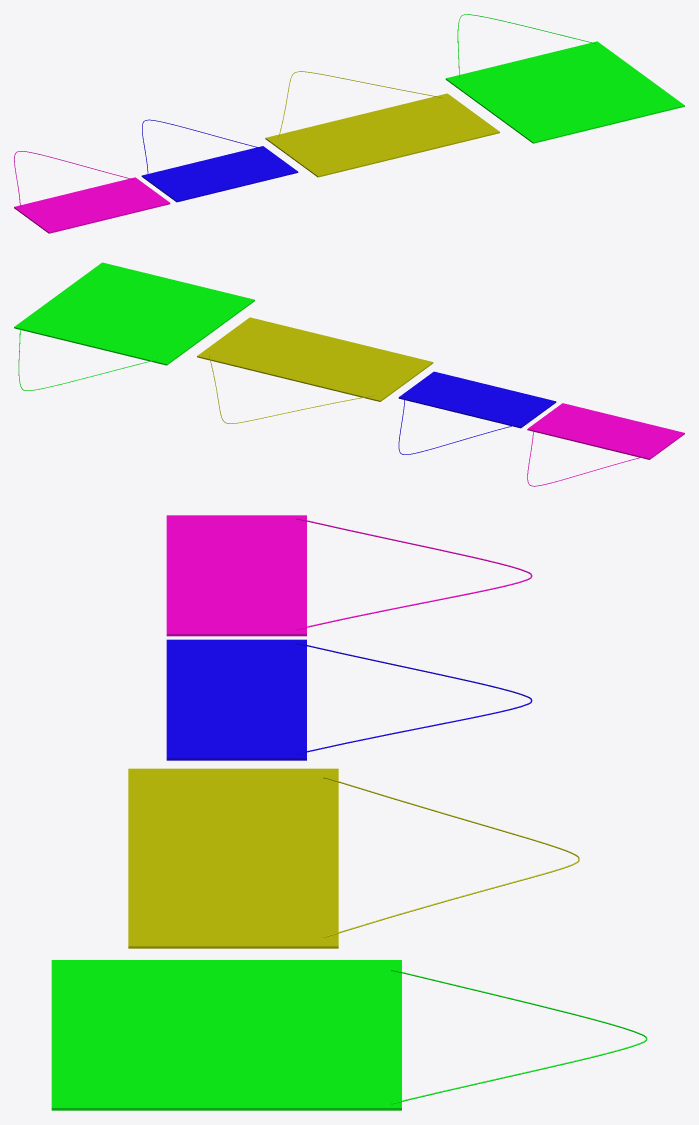
The model's file is SIZ_SIGNS_ALL.fbx.
3 renders of one model, top to bottom at view 1: azimuth 30°, elevation 25°; view 2: azimuth 150°, elevation 25°; view 3: azimuth 270°, elevation 25°, orthographic. The views are drawn at different scales.
Visible parts, largest first — view 1: Знак_работать_здесь, Знак_стой_напряжение, Знак_заземлено, Знак_не_включать_работают_люди; view 2: Знак_работать_здесь, Знак_стой_напряжение, Знак_не_включать_работают_люди, Знак_заземлено; view 3: Знак_работать_здесь, Знак_стой_напряжение, Знак_заземлено, Знак_не_включать_работают_люди.
Part boxes in pixels (<box>): Знак_работать_здесь: <box>445,14,684,143</box>; Знак_стой_напряжение: <box>265,71,499,177</box>; Знак_заземлено: <box>14,151,170,233</box>; Знак_не_включать_работают_люди: <box>141,119,298,202</box>; Знак_работать_здесь: <box>14,262,254,390</box>; Знак_стой_напряжение: <box>197,317,433,423</box>; Знак_не_включать_работают_люди: <box>398,371,556,454</box>; Знак_заземлено: <box>527,403,684,486</box>; Знак_работать_здесь: <box>51,960,647,1110</box>; Знак_стой_напряжение: <box>128,768,579,948</box>; Знак_заземлено: <box>166,515,532,636</box>; Знак_не_включать_работают_люди: <box>166,639,532,760</box>.
Size of the model in its own units: 100 by 0.3604 by 42.5.
